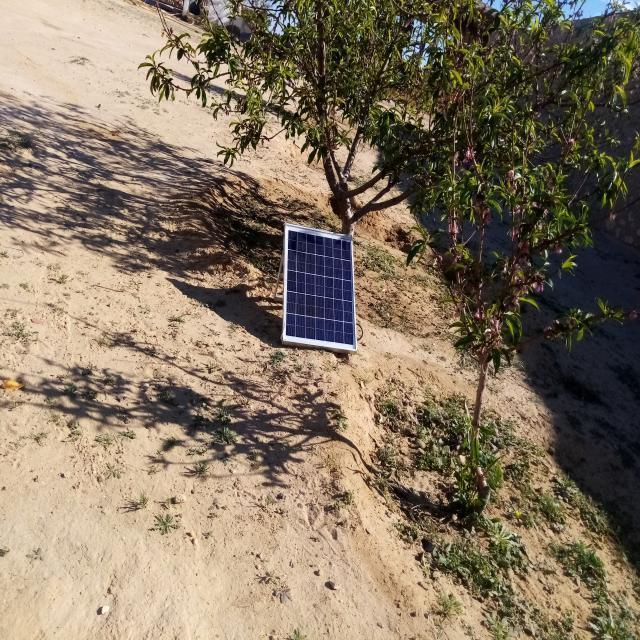Normal Solar Panel: (283, 224, 356, 350)
